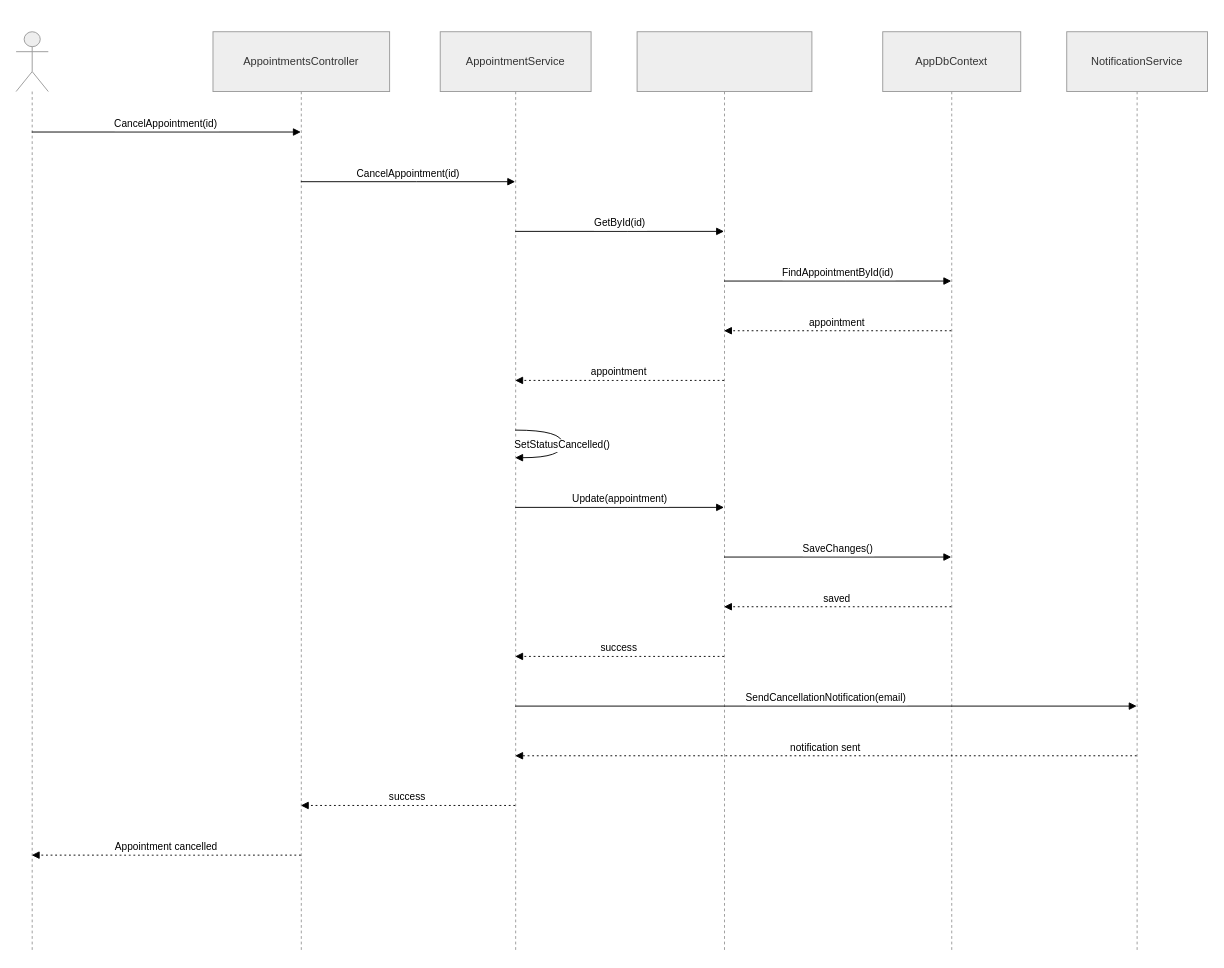
Image size: 1224x968. Some labels were removed from this diagram. Each missing label, with the box of its shape:
AppointmentRepository: (636, 31, 812, 952)
User: (15, 31, 48, 952)
